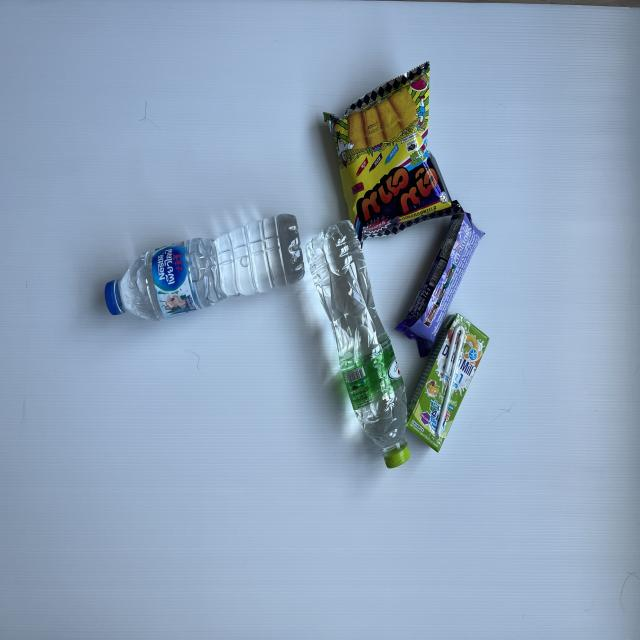cracker: (394, 199, 486, 358)
milk: (406, 310, 491, 454)
snack: (324, 60, 466, 250)
water: (307, 220, 411, 471), (104, 211, 306, 321)
